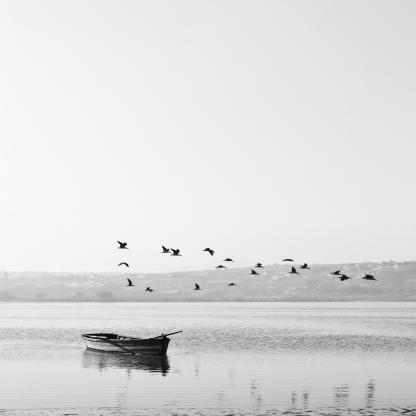bird: (361, 274, 378, 282), (116, 241, 131, 250), (202, 247, 216, 256), (170, 248, 184, 257), (159, 245, 172, 254), (337, 274, 353, 281), (288, 267, 301, 275), (298, 263, 312, 270), (126, 278, 136, 287), (249, 269, 261, 276), (330, 270, 344, 276), (192, 283, 202, 291), (117, 262, 130, 268), (254, 262, 265, 268), (223, 258, 236, 263), (214, 265, 229, 269), (145, 287, 155, 293), (281, 258, 294, 262), (227, 282, 238, 286)
